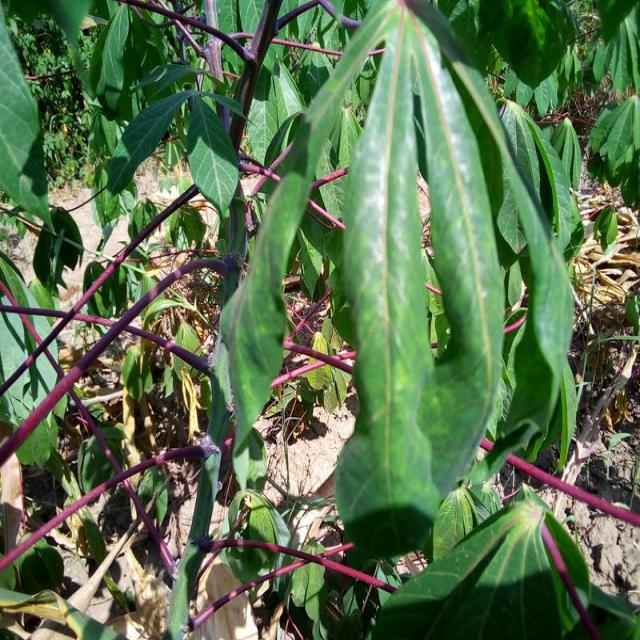cassava leaf: (332, 1, 506, 560)
